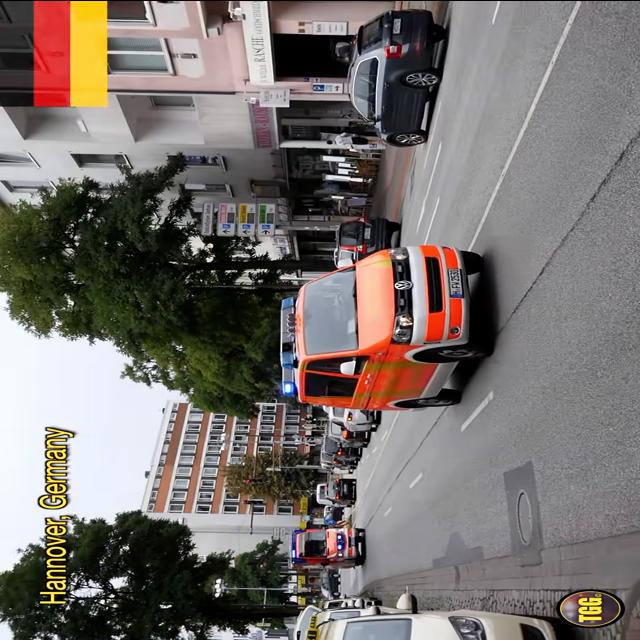emergency-vehicles: (272, 231, 503, 422)
